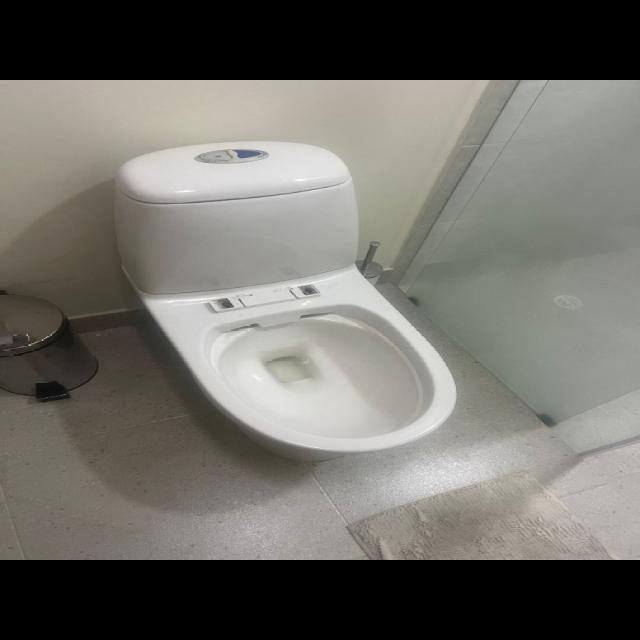toilet: (112, 140, 457, 463)
